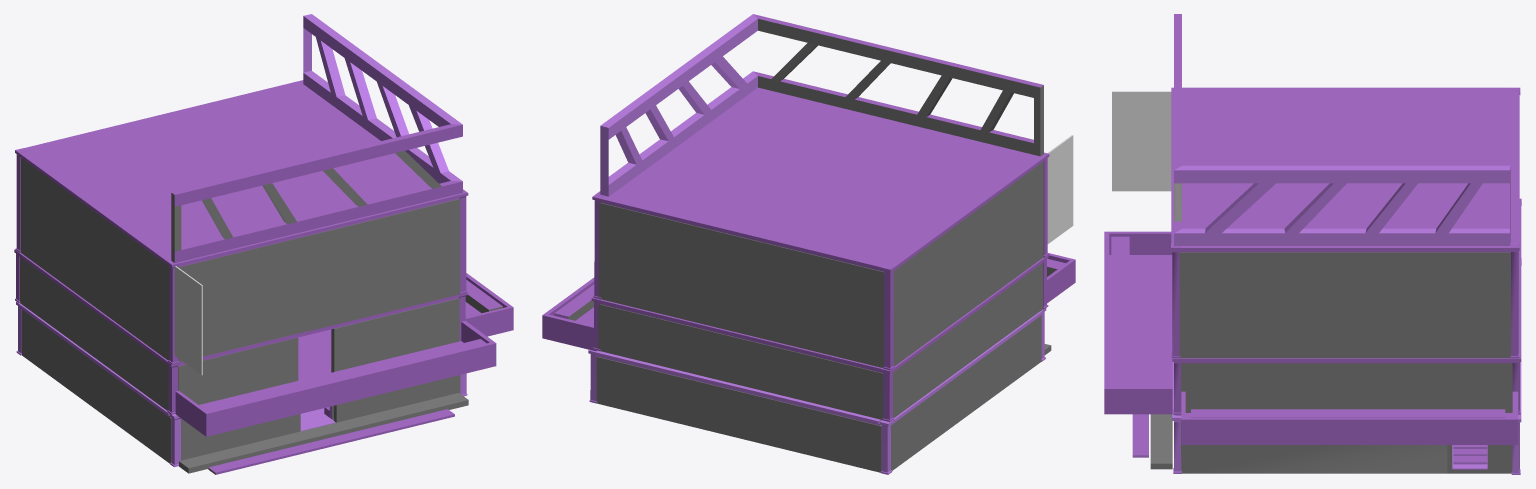
The model's file is Building 2.fbx.
The picture shows the model from 3 angles, left to right: view 1: azimuth 30°, elevation 25°; view 2: azimuth 150°, elevation 25°; view 3: azimuth 270°, elevation 25°; orthographic projection. The views are drawn at different scales.
Parts seen in each view (by area): view 1: Building2, Billboard2; view 2: Building2, Billboard2; view 3: Building2, Billboard2.
Part boxes in pixels (x1,y1,x2,y2): Building2: [14, 14, 513, 474]; Billboard2: [174, 266, 202, 375]; Building2: [542, 14, 1075, 474]; Billboard2: [1047, 135, 1073, 243]; Building2: [1104, 14, 1521, 474]; Billboard2: [1112, 91, 1171, 191].
Bounding box in the file's own units: 20.35 × 15.27 × 19.14.
